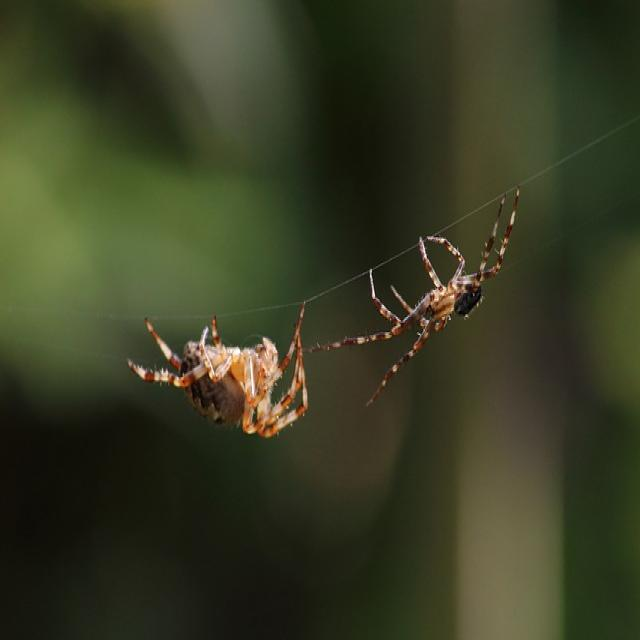spyder: (310, 191, 520, 403), (128, 304, 308, 437)
